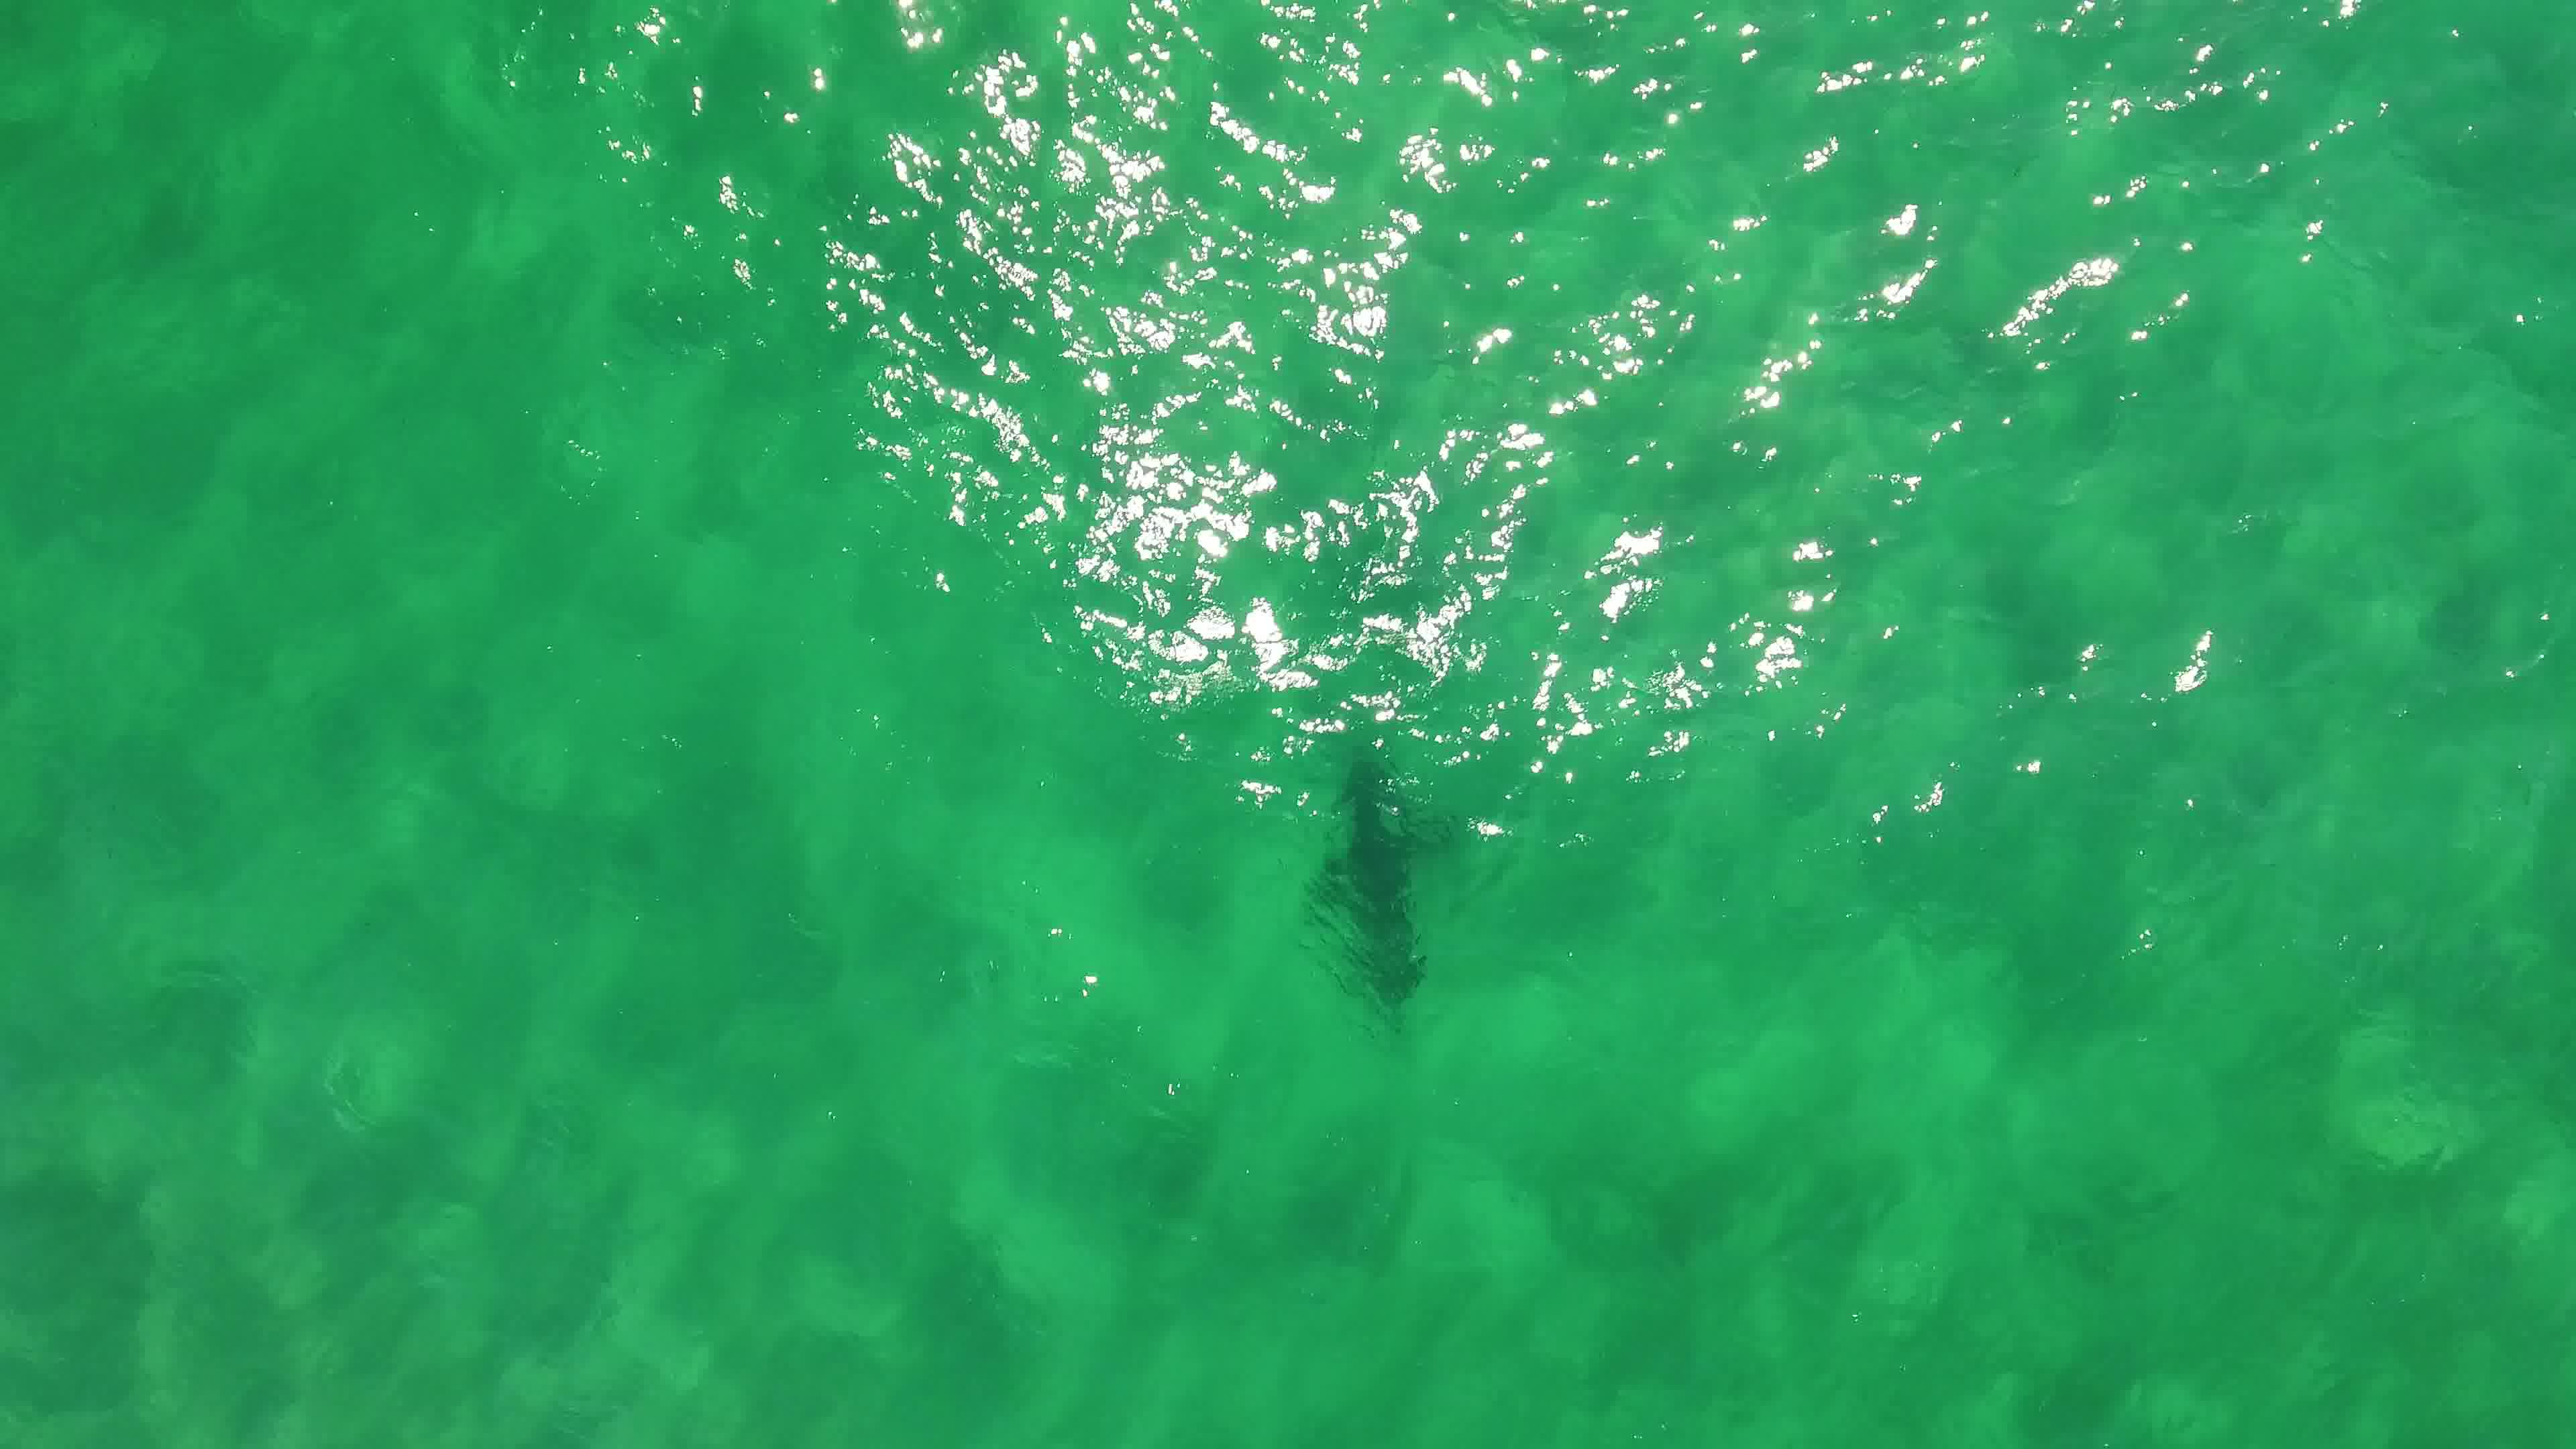shark: (1309, 743, 1438, 1016)
